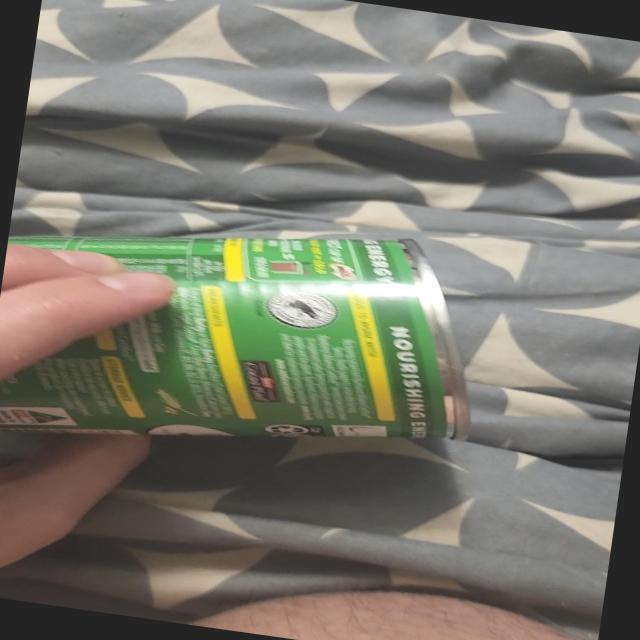nestle_milo_tin: (0, 236, 469, 439)
